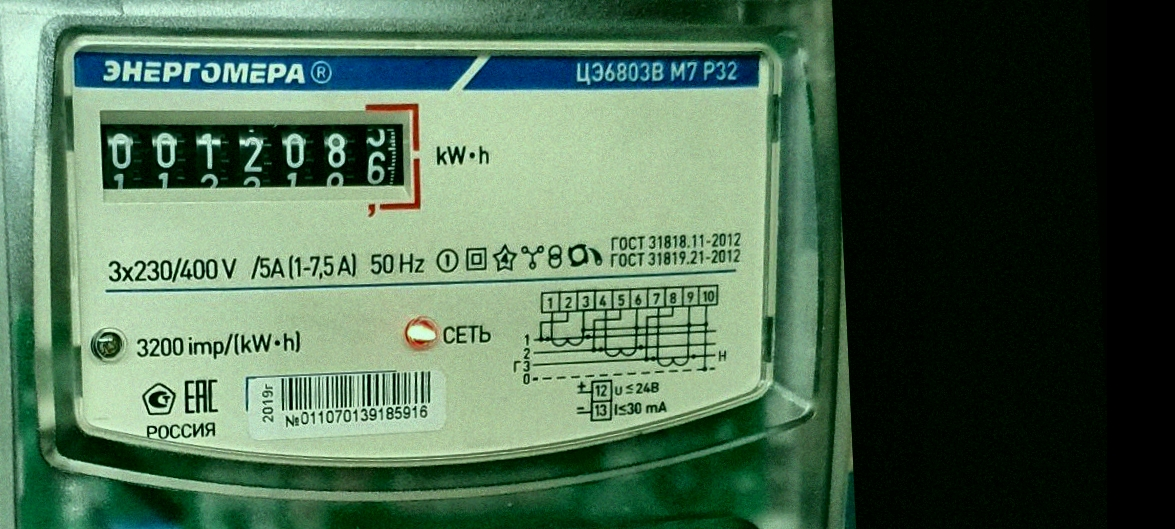0: (151, 128, 180, 171), (108, 128, 133, 171), (282, 130, 307, 170)
1: (196, 129, 220, 171)
2: (239, 134, 266, 174)
6: (362, 148, 387, 185)
8: (324, 129, 348, 170)
screen: (89, 82, 434, 236)
